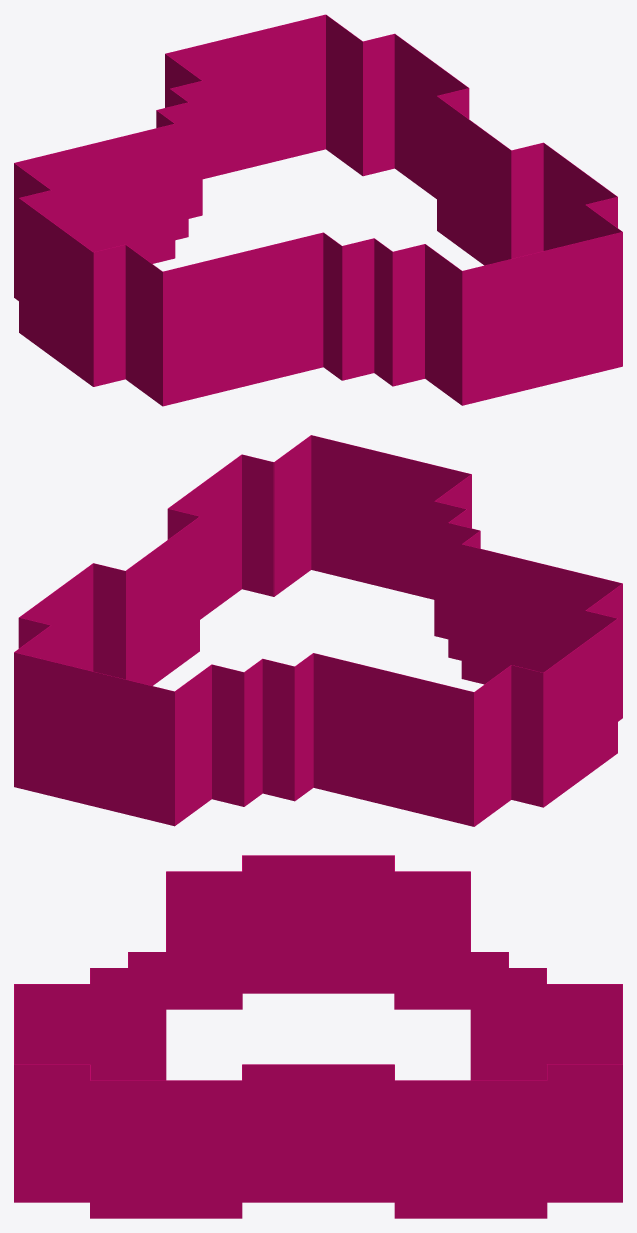
The model's file is wallsfirst.glb.
3 renders of one model, top to bottom at view 1: azimuth 30°, elevation 25°; view 2: azimuth 150°, elevation 25°; view 3: azimuth 270°, elevation 25°, orthographic. The views are drawn at different scales.
Visible parts, largest first — view 1: wall16, wall10, Cube.001, wall10.001, wall2225, wall5, wall3, wall11.004, wall11, wall1, wall8.001, wall14 (+13 smaller); view 2: wall10.001, Cube.001, wall10, wall16, wall2225, wall5, wall7, wall11.001, wall9, 1111.001, wall8.003, wall8.004 (+13 smaller); view 3: wall2225, wall5, wall7, wall3, wall11.001, wall11.004, wall1, wall9, wall11, 1111.001, wall15, wall11.003 (+2 smaller).
Part boxes in pixels (x1,y1,x2,y2): wall16: (162, 232, 323, 406); wall10: (462, 232, 622, 405); Cube.001: (165, 14, 325, 179); wall10.001: (15, 124, 174, 263); wall2225: (19, 198, 93, 386); wall5: (437, 96, 511, 265); wall3: (394, 34, 468, 198); wall11.004: (125, 245, 162, 406); wall11: (425, 244, 462, 405); wall1: (326, 14, 363, 175); wall8.001: (93, 244, 125, 386); wall14: (342, 238, 374, 380); wall10.001: (313, 653, 474, 826); Cube.001: (14, 652, 174, 826); wall10: (311, 435, 471, 599); wall16: (462, 544, 622, 684); wall2225: (543, 618, 617, 807); wall5: (125, 516, 199, 685); wall7: (167, 454, 241, 619); wall11.001: (474, 665, 511, 826); wall9: (274, 435, 311, 596); 1111.001: (174, 664, 211, 825); wall8.003: (262, 659, 294, 801); wall8.004: (511, 665, 543, 807); wall2225: (242, 855, 394, 993); wall5: (242, 1064, 394, 1202); wall7: (90, 1080, 242, 1218); wall3: (394, 1080, 546, 1218); wall11.001: (394, 871, 470, 1009); wall11.004: (166, 871, 242, 1009); wall1: (546, 1064, 622, 1202); wall9: (14, 1064, 89, 1202); wall11: (14, 984, 89, 1064); 1111.001: (547, 984, 622, 1064); wall15: (128, 952, 166, 1080); wall11.003: (470, 952, 508, 1080).
Bounding box in the file's own units: 224 × 64 × 256.
